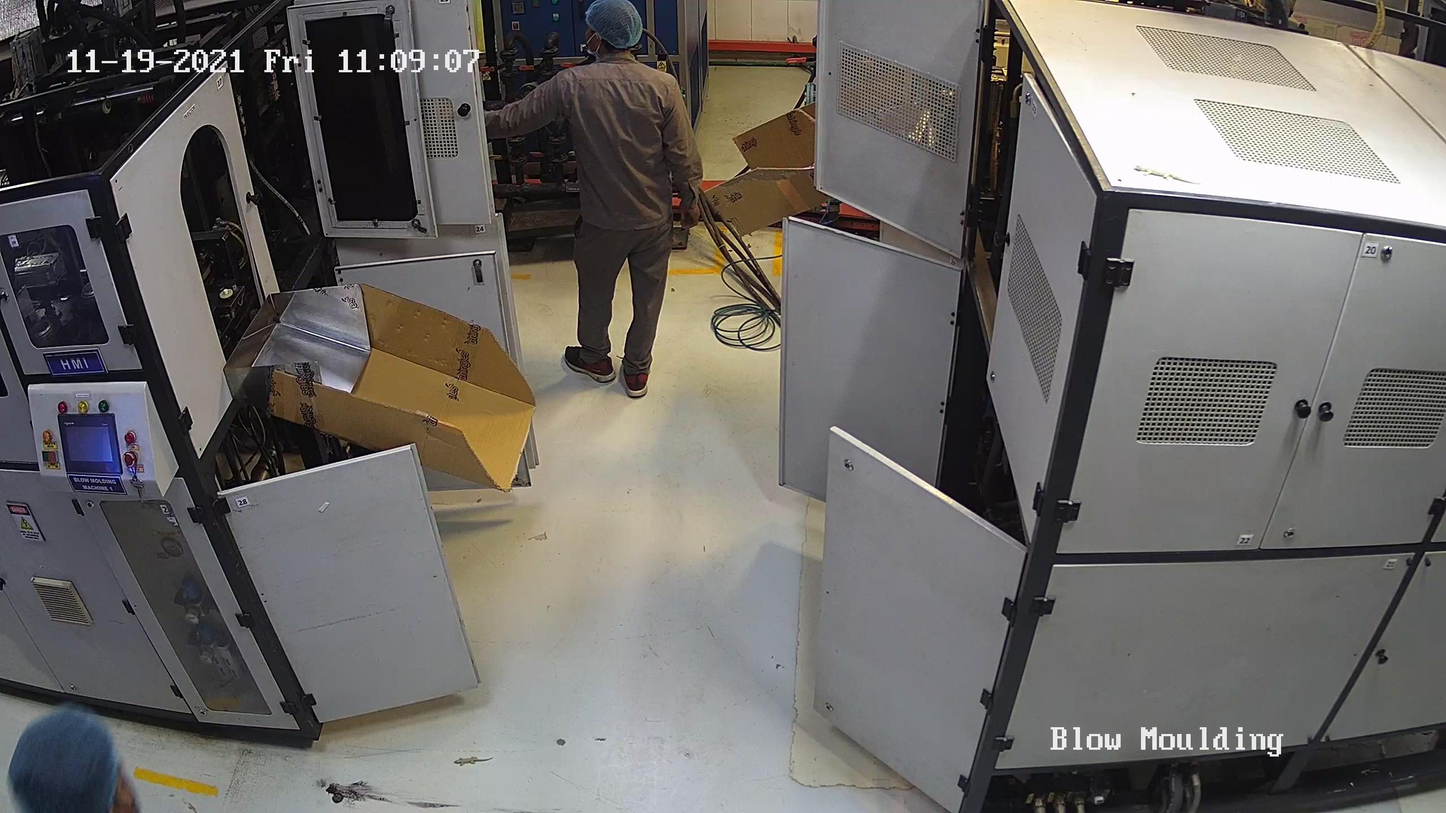lizard: (445, 746, 495, 771)
